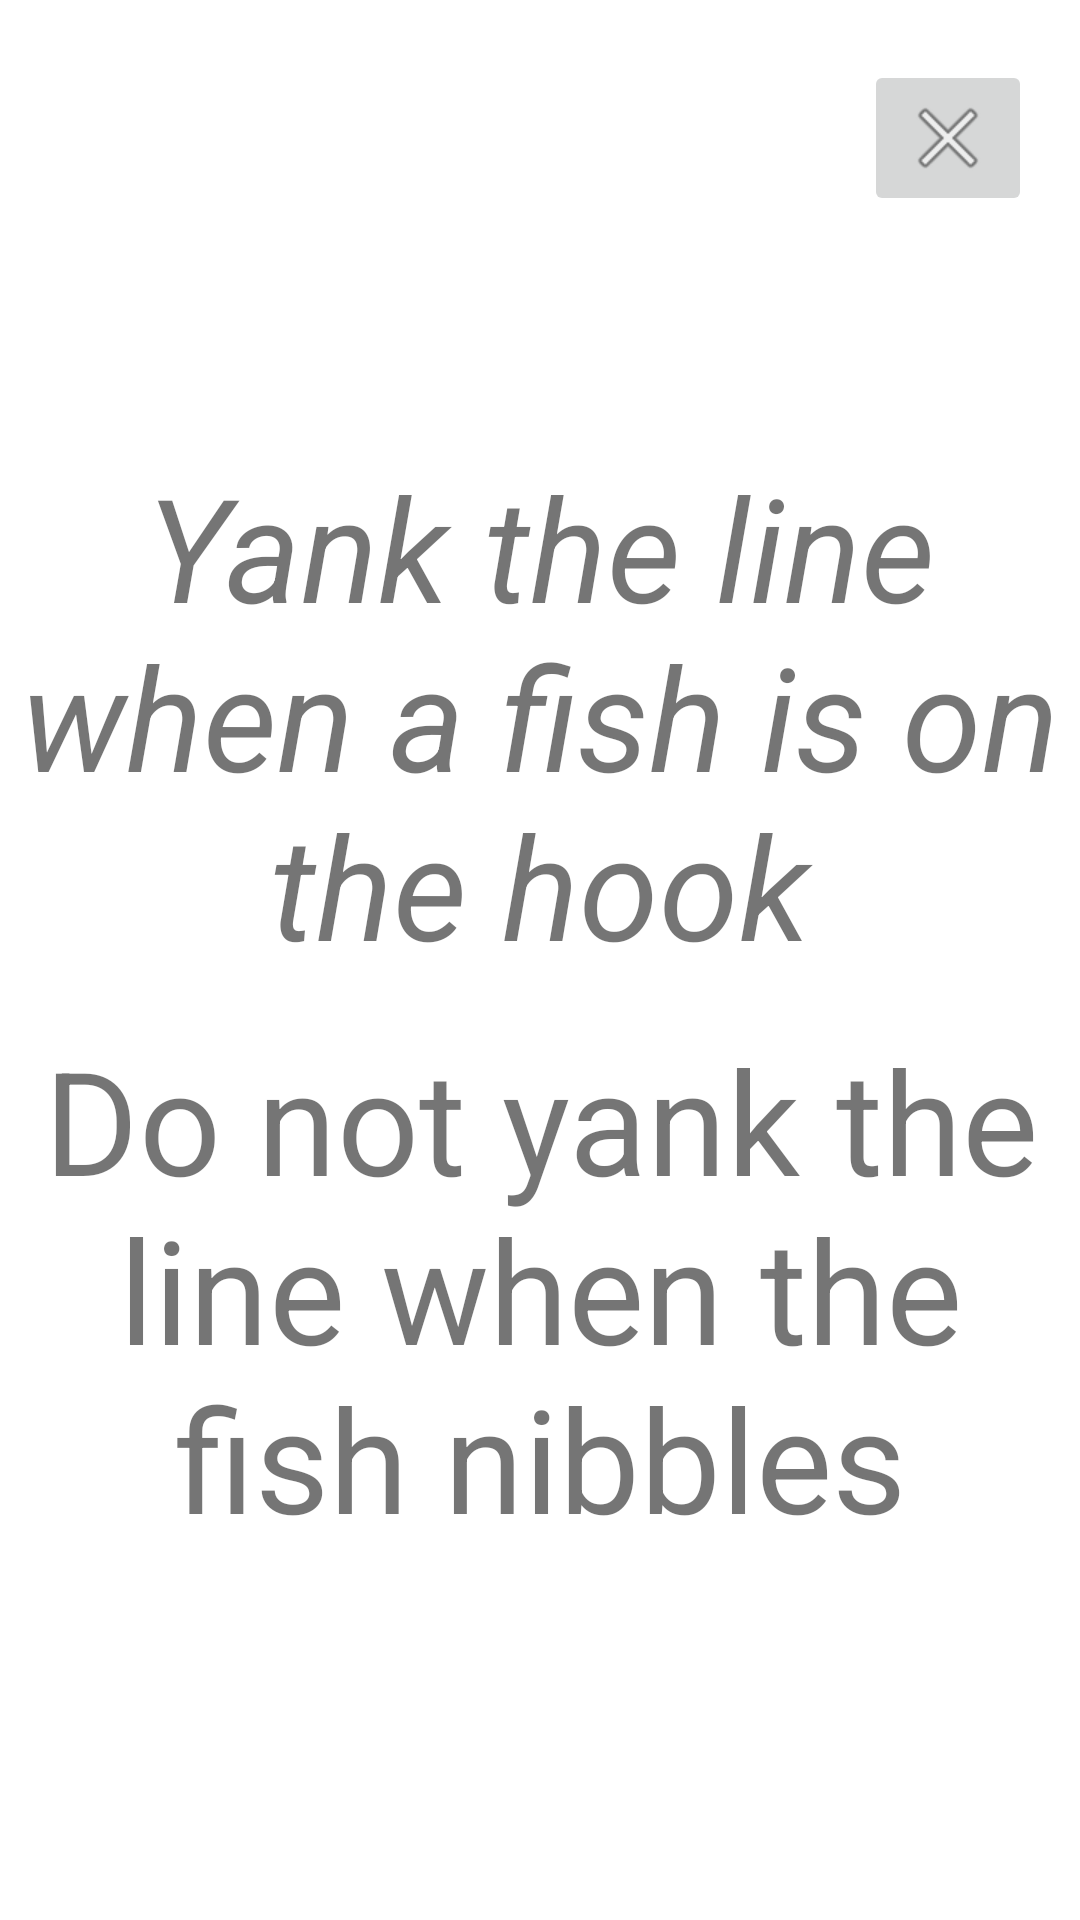

Named icons in this screenshot (1080px×1920px) and their centers, point (x, y):
close clear cancel: point (948, 138)
